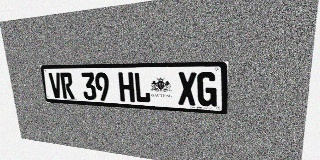3: (81, 72, 97, 100)
9: (94, 72, 110, 101)
G: (197, 72, 217, 107)
H: (118, 72, 135, 102)
L: (133, 72, 151, 103)
R: (60, 72, 75, 99)
V: (48, 72, 63, 98)
X: (178, 72, 196, 106)
